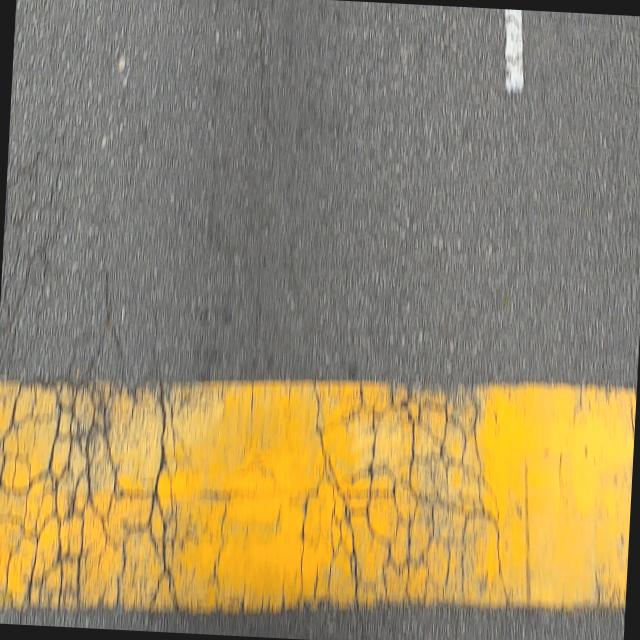Retak-Buaya: (0, 145, 180, 613), (291, 383, 517, 607)
